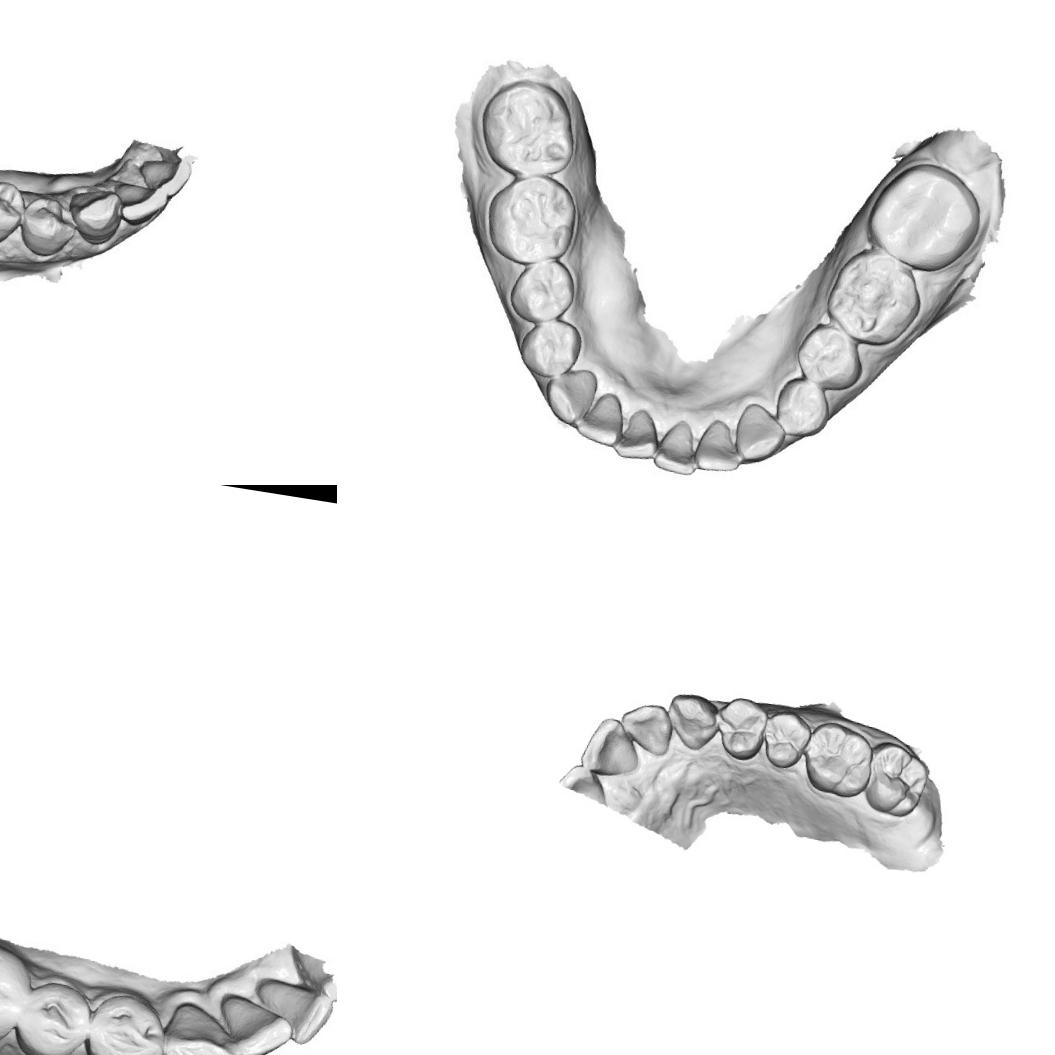canine: (157, 1001, 246, 1055), (62, 183, 128, 250), (660, 690, 722, 756), (542, 364, 600, 424), (732, 400, 787, 463)
incisor: (250, 974, 337, 1046), (215, 989, 295, 1055), (578, 712, 646, 778), (614, 697, 678, 759), (134, 148, 198, 201), (648, 410, 699, 474), (577, 390, 630, 447), (117, 179, 172, 231), (616, 402, 664, 461), (555, 760, 616, 806), (692, 414, 740, 472)
molar: (865, 158, 984, 276), (472, 72, 584, 182), (820, 242, 930, 352), (486, 160, 583, 270), (798, 716, 878, 802), (859, 737, 934, 822), (0, 921, 35, 1054)
premolar: (10, 974, 97, 1055), (80, 984, 170, 1055), (790, 320, 866, 402), (507, 256, 579, 327), (516, 314, 587, 382), (14, 190, 78, 264), (709, 692, 771, 765), (773, 378, 836, 444), (758, 705, 814, 774), (0, 174, 30, 250)
